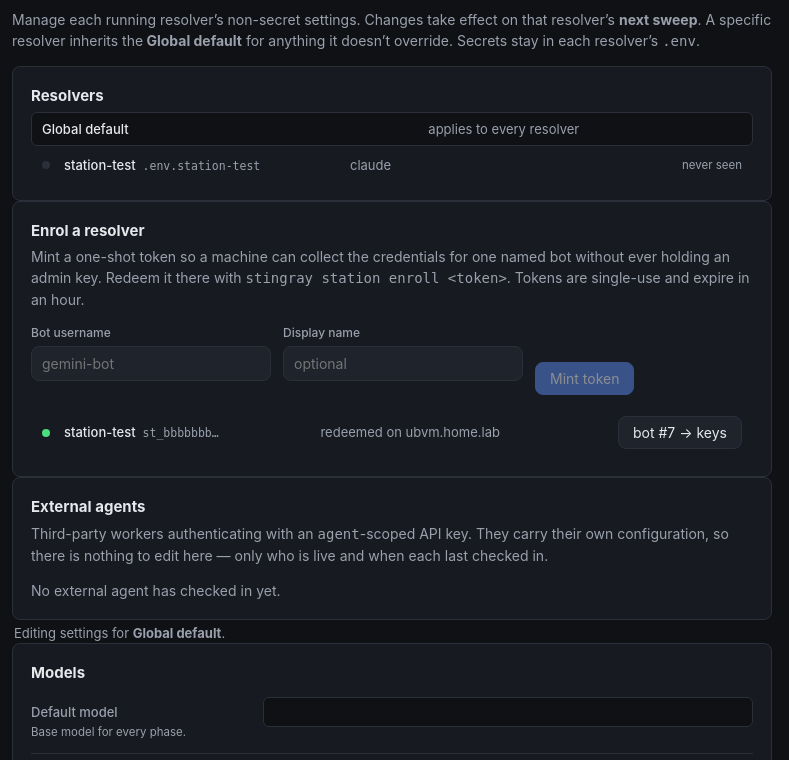
revoking a resolver bot's access › sends a redeemed enrolment to the bot's keys instead of a dead revoke
What coordinates should you click on to do the following:
click the button "bot #7 → keys"
I would click on:
 (680, 432)
Its box is [618,416,742,449].
(page scrolled)
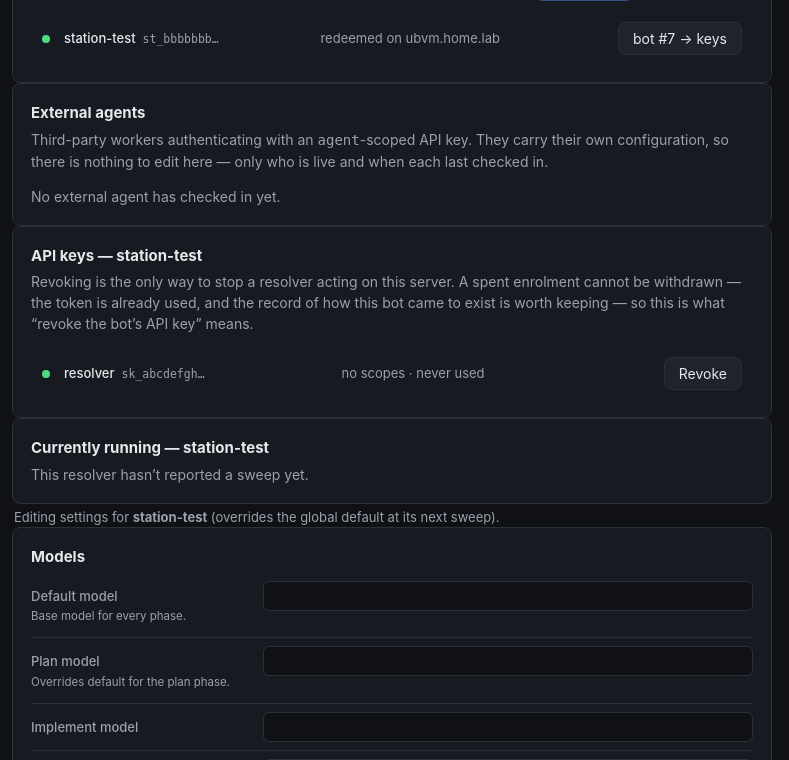
Now the text "sk_abcdefgh…" is shown, box [114,367,204,381]
